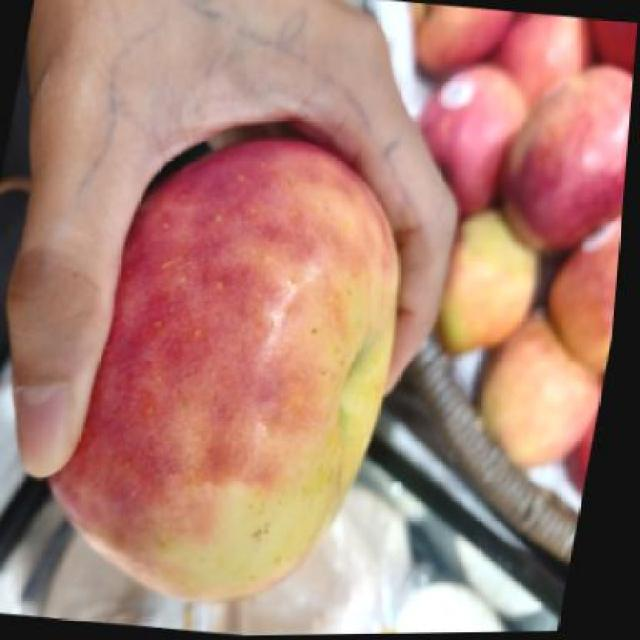Fresh Apple: (134, 149, 403, 606)
